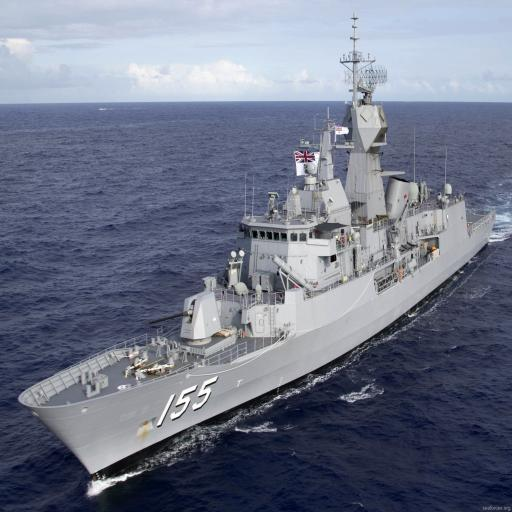Fragata: (10, 4, 503, 505)
